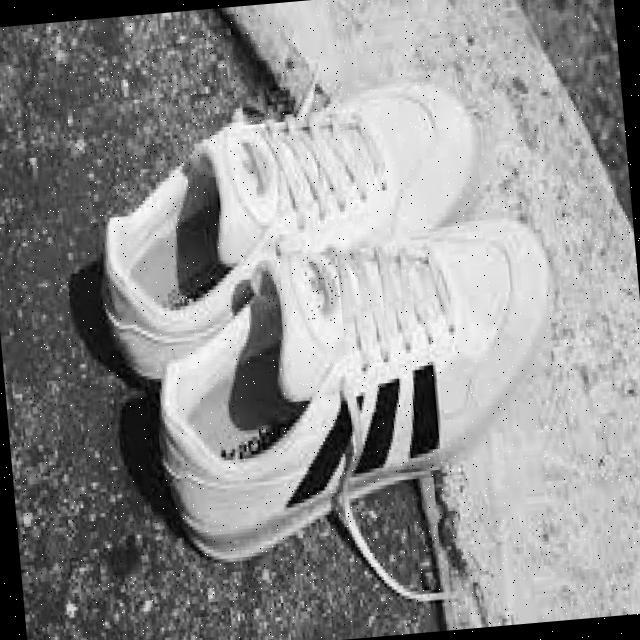Adidas: (228, 130, 277, 214), (301, 253, 342, 322)
